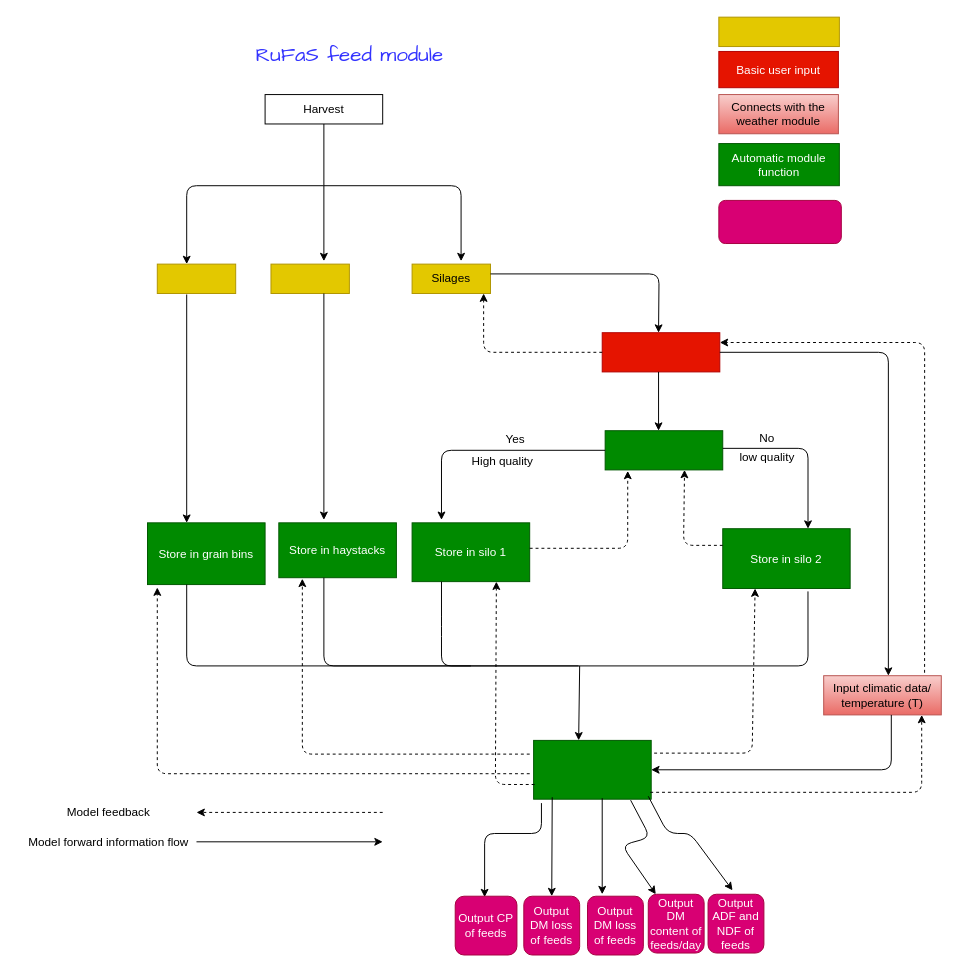
Some shapes in this 958 by 972 pixel diagram are drawn without their labels. The centre of each missing label's shape, as x and y in pixels:
"Computes ∆ T" goes at pixel 592 769.
"Grains" goes at pixel 196 278.
"Hays" goes at pixel 309 278.
"Input DM value" goes at pixel 660 352.
"Is DM value >= 20% && <70%?" goes at pixel 663 450.
"Output from module" goes at pixel 779 221.
"User selection" goes at pixel 778 31.
